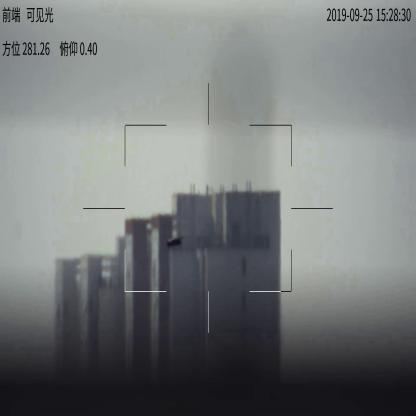uav: (166, 237, 182, 249)
